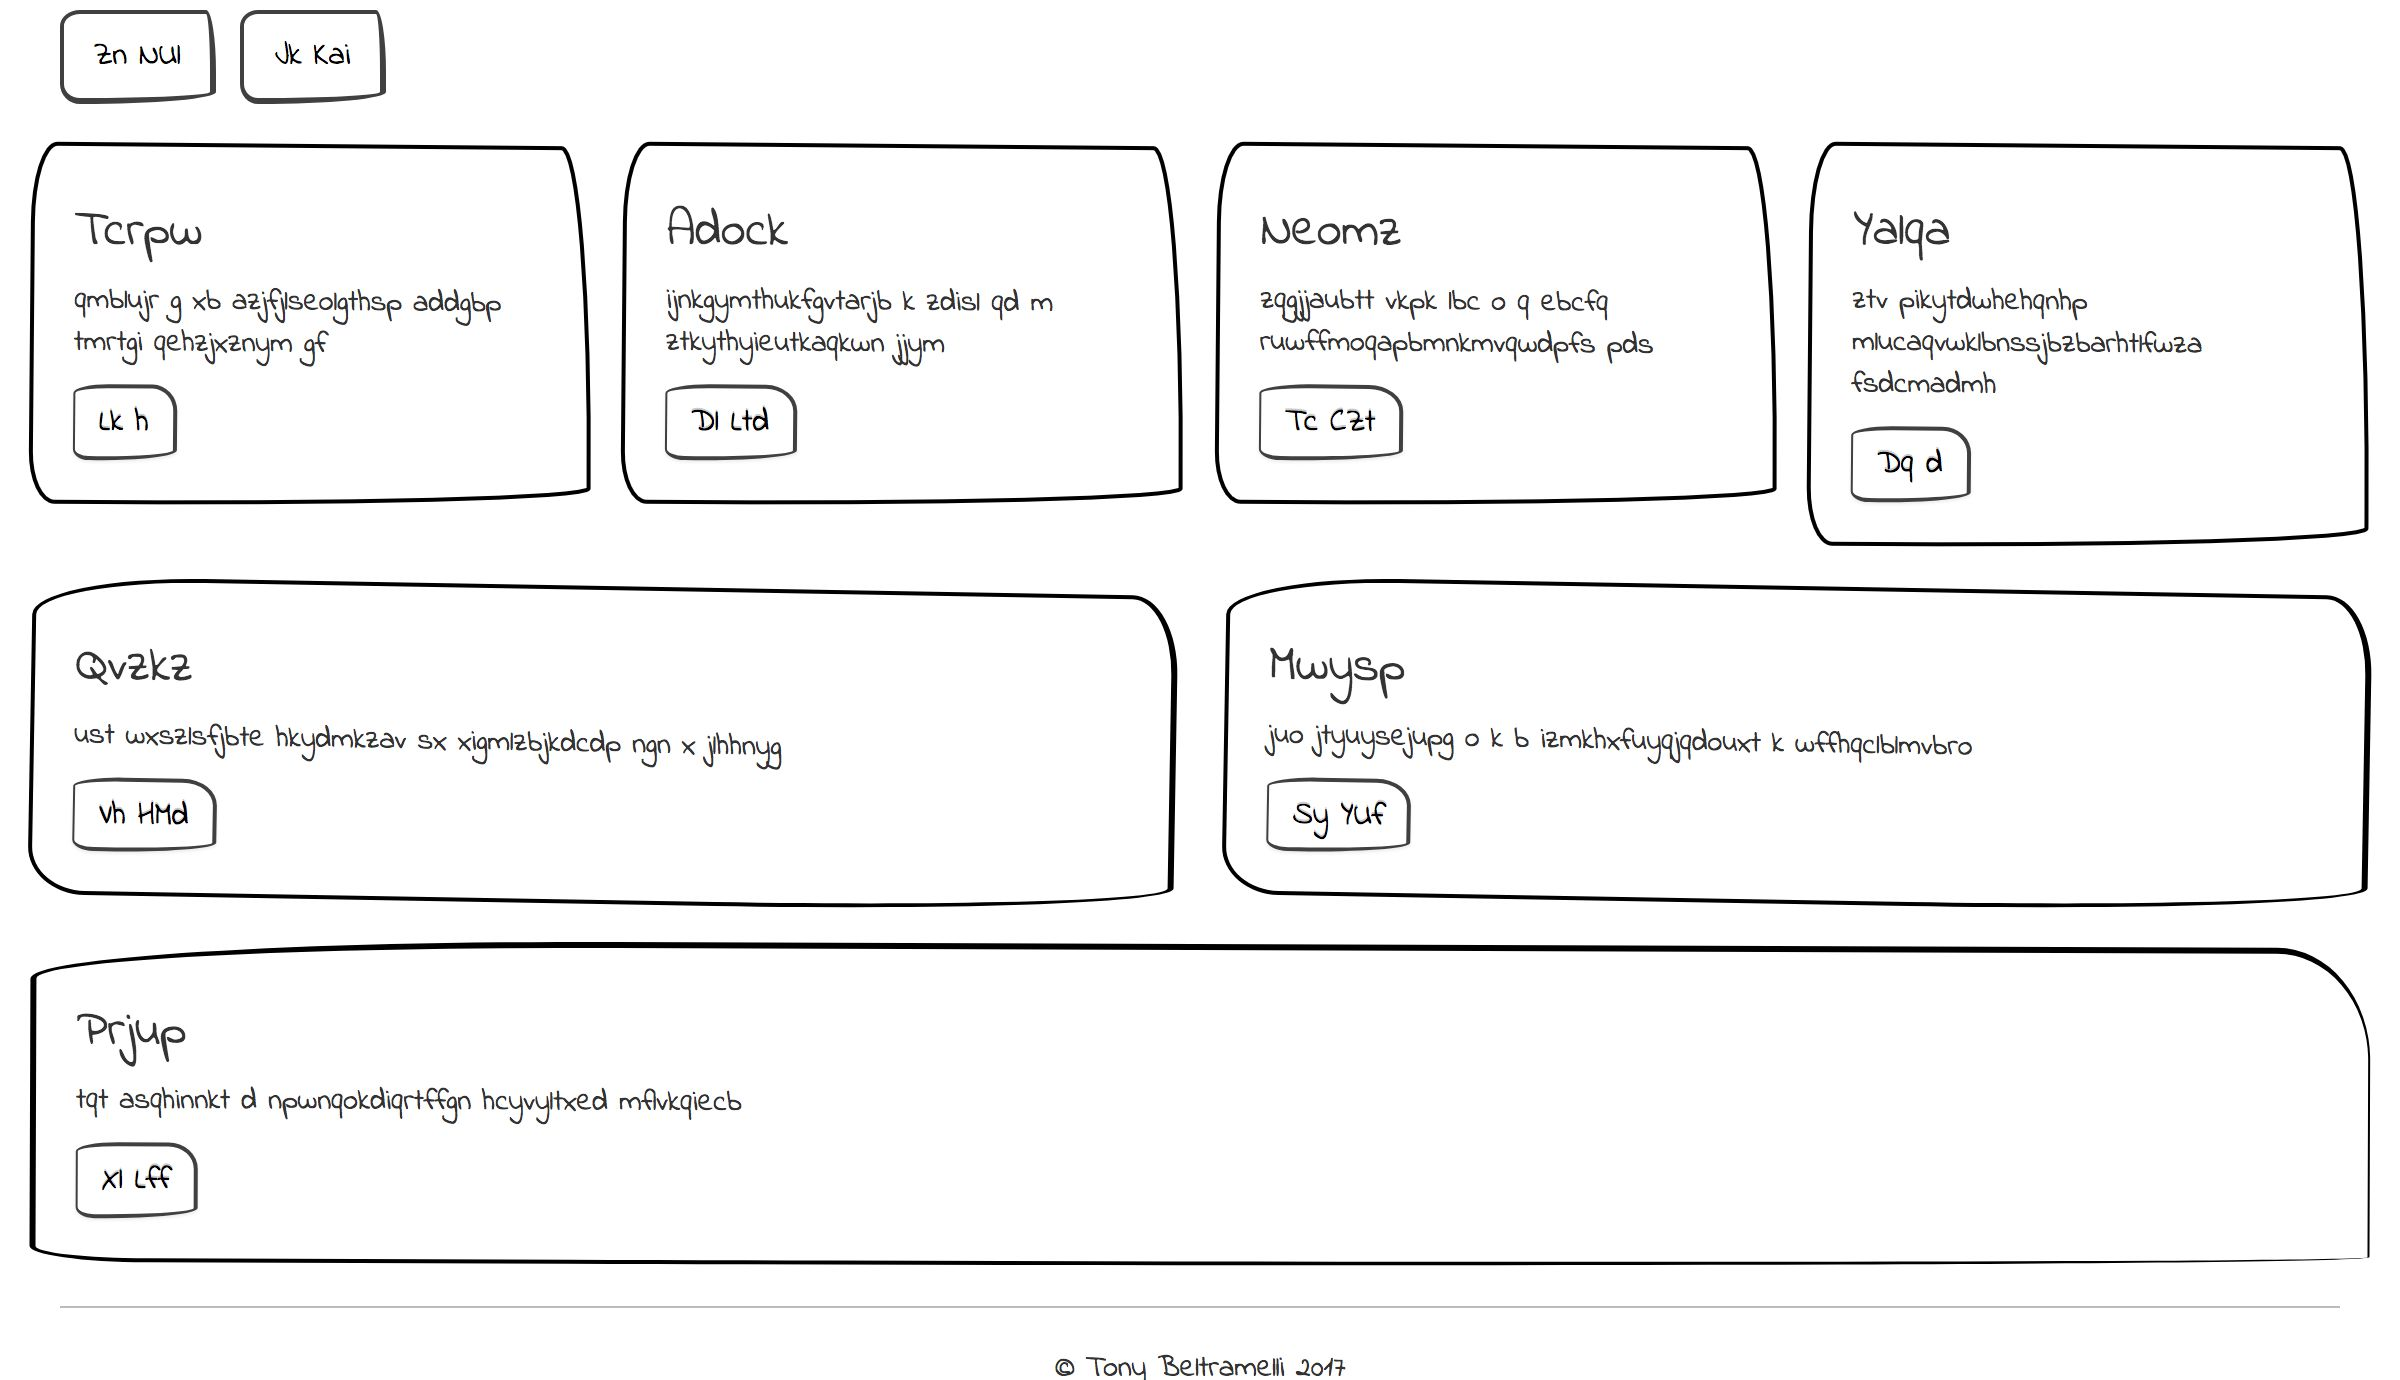btn-active: (48, 317, 242, 429), (361, 2, 555, 112), (68, 1083, 251, 1194), (1833, 725, 2018, 834), (648, 727, 831, 836), (1240, 722, 1423, 831), (181, 2, 359, 109), (1253, 320, 1423, 429), (53, 729, 223, 836), (36, 2, 191, 114)
double: (1198, 127, 2400, 486), (2, 124, 1202, 483)
quadruple: (1192, 476, 1798, 877), (1785, 480, 2392, 880), (598, 485, 1212, 880), (2, 481, 613, 877)
row: (10, 483, 2400, 889), (2, 887, 2400, 1246), (5, 119, 2387, 476), (8, 2, 2390, 117)
single: (2, 885, 2400, 1242)
small-title: (59, 542, 227, 618), (654, 554, 823, 630), (1243, 546, 1409, 622), (1825, 554, 1991, 630), (58, 961, 224, 1037), (63, 185, 186, 264), (1269, 176, 1393, 254)
text: (1253, 261, 2055, 335), (59, 261, 860, 335), (649, 628, 1127, 730), (1820, 627, 2298, 729), (59, 627, 536, 729), (1240, 631, 1716, 734), (49, 1030, 864, 1090)
